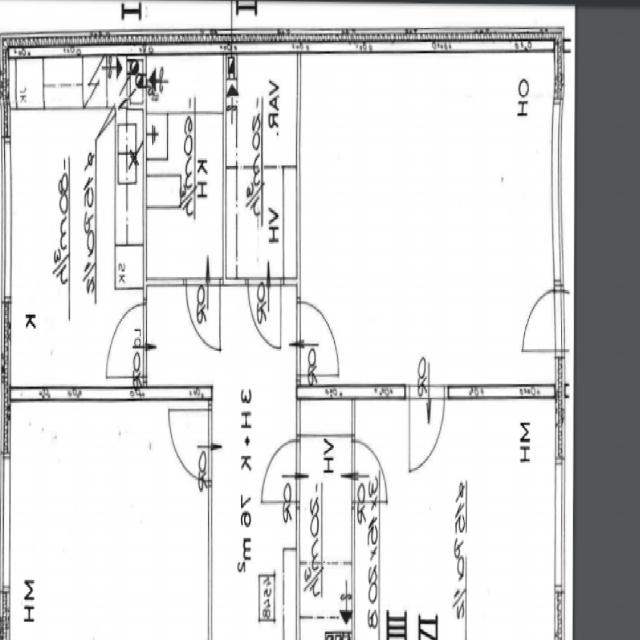door: (296, 303, 339, 376), (105, 306, 146, 378), (171, 411, 212, 481), (410, 388, 445, 464), (555, 291, 596, 351), (523, 291, 564, 351), (248, 278, 282, 347), (187, 278, 220, 347), (264, 441, 300, 502), (352, 442, 388, 503)
